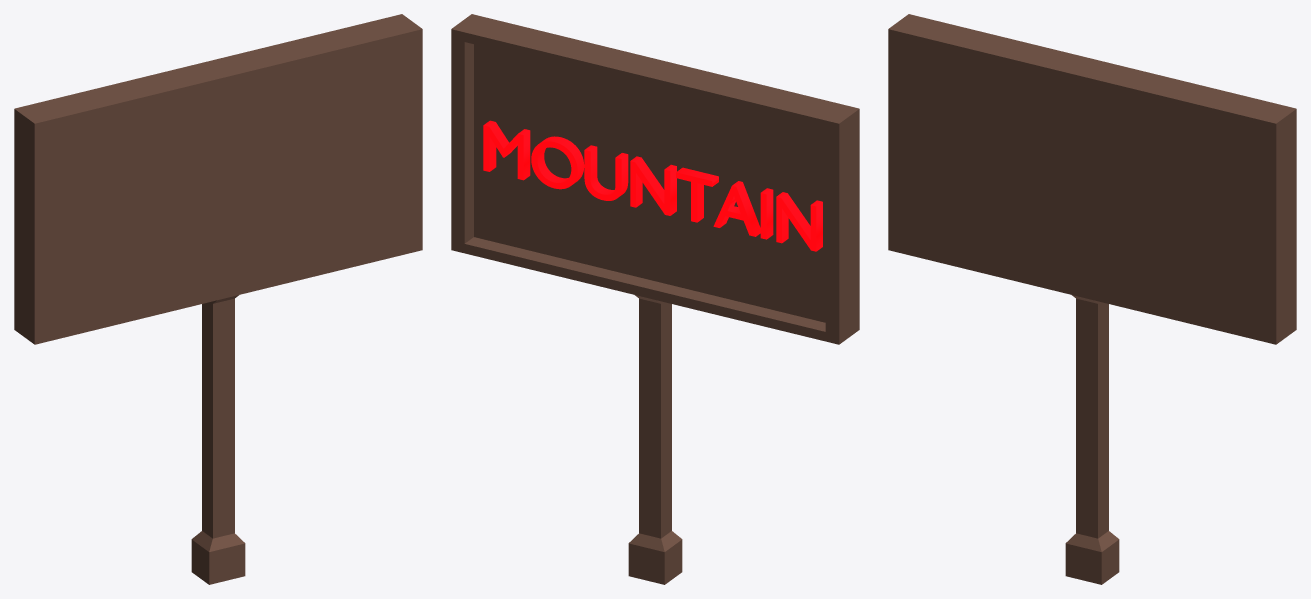
Rendered from MountainSign_A.fbx.
3 views of the same model, side by side, from view 1: azimuth 30°, elevation 25°; view 2: azimuth 150°, elevation 25°; view 3: azimuth 330°, elevation 25° (orthographic).
Visible parts, largest first — view 1: Cube.057; view 2: Cube.057; view 3: Cube.057.
Boxes of the visible parts, x1,y1,x2,y2 form: Cube.057: (14, 14, 422, 584); Cube.057: (451, 14, 859, 584); Cube.057: (888, 14, 1296, 584).
Bounding box in the file's own units: 365 × 454 × 33.65.
